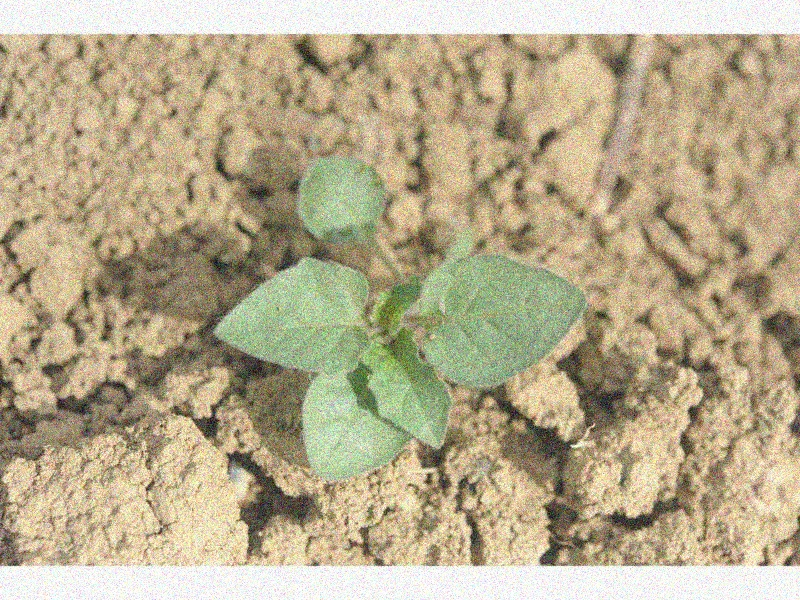nightshade: (213, 156, 588, 479)
